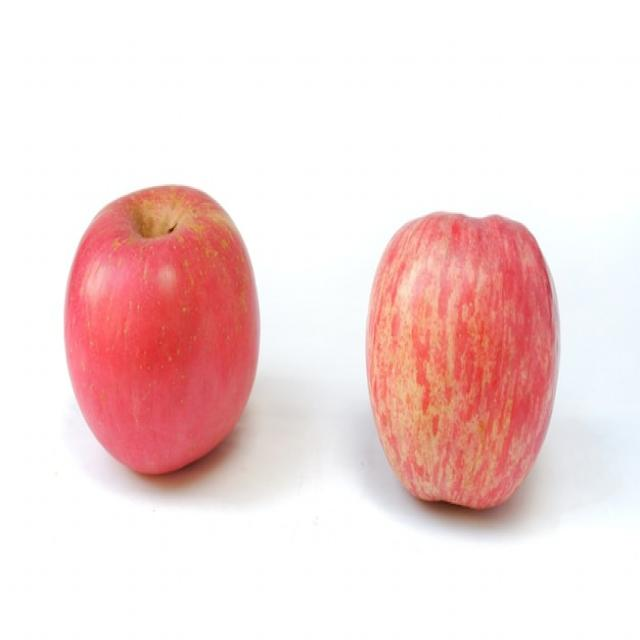Apple: (362, 207, 561, 519), (61, 189, 262, 480)
